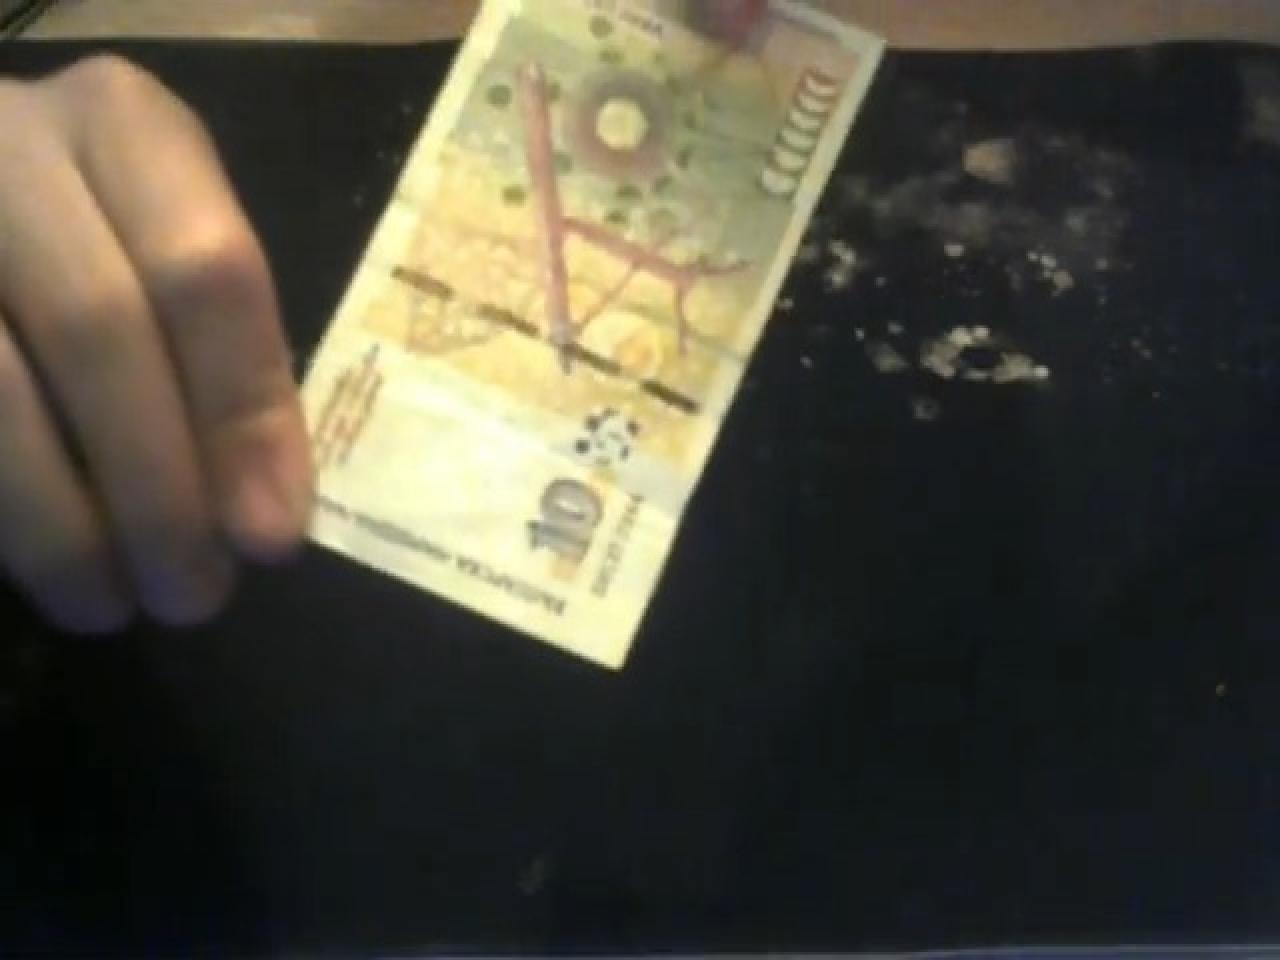10leva: (300, 0, 884, 675)
